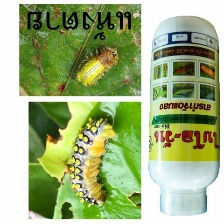insecticide: (147, 13, 222, 217)
